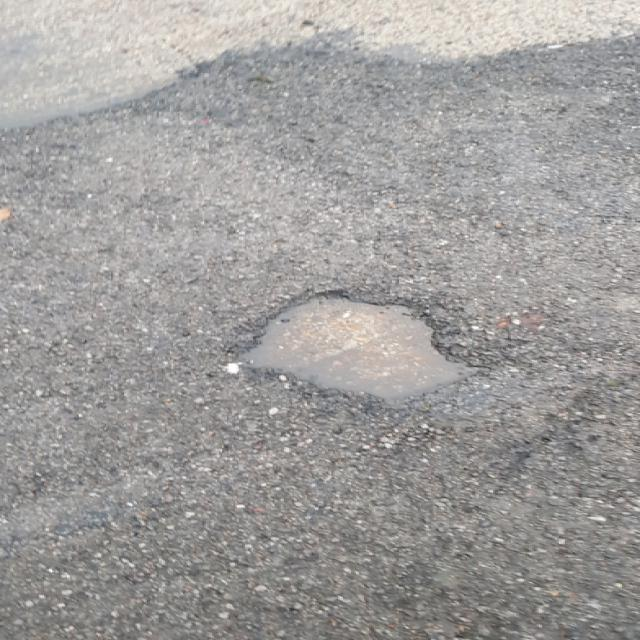Pothole: (227, 286, 502, 411)
